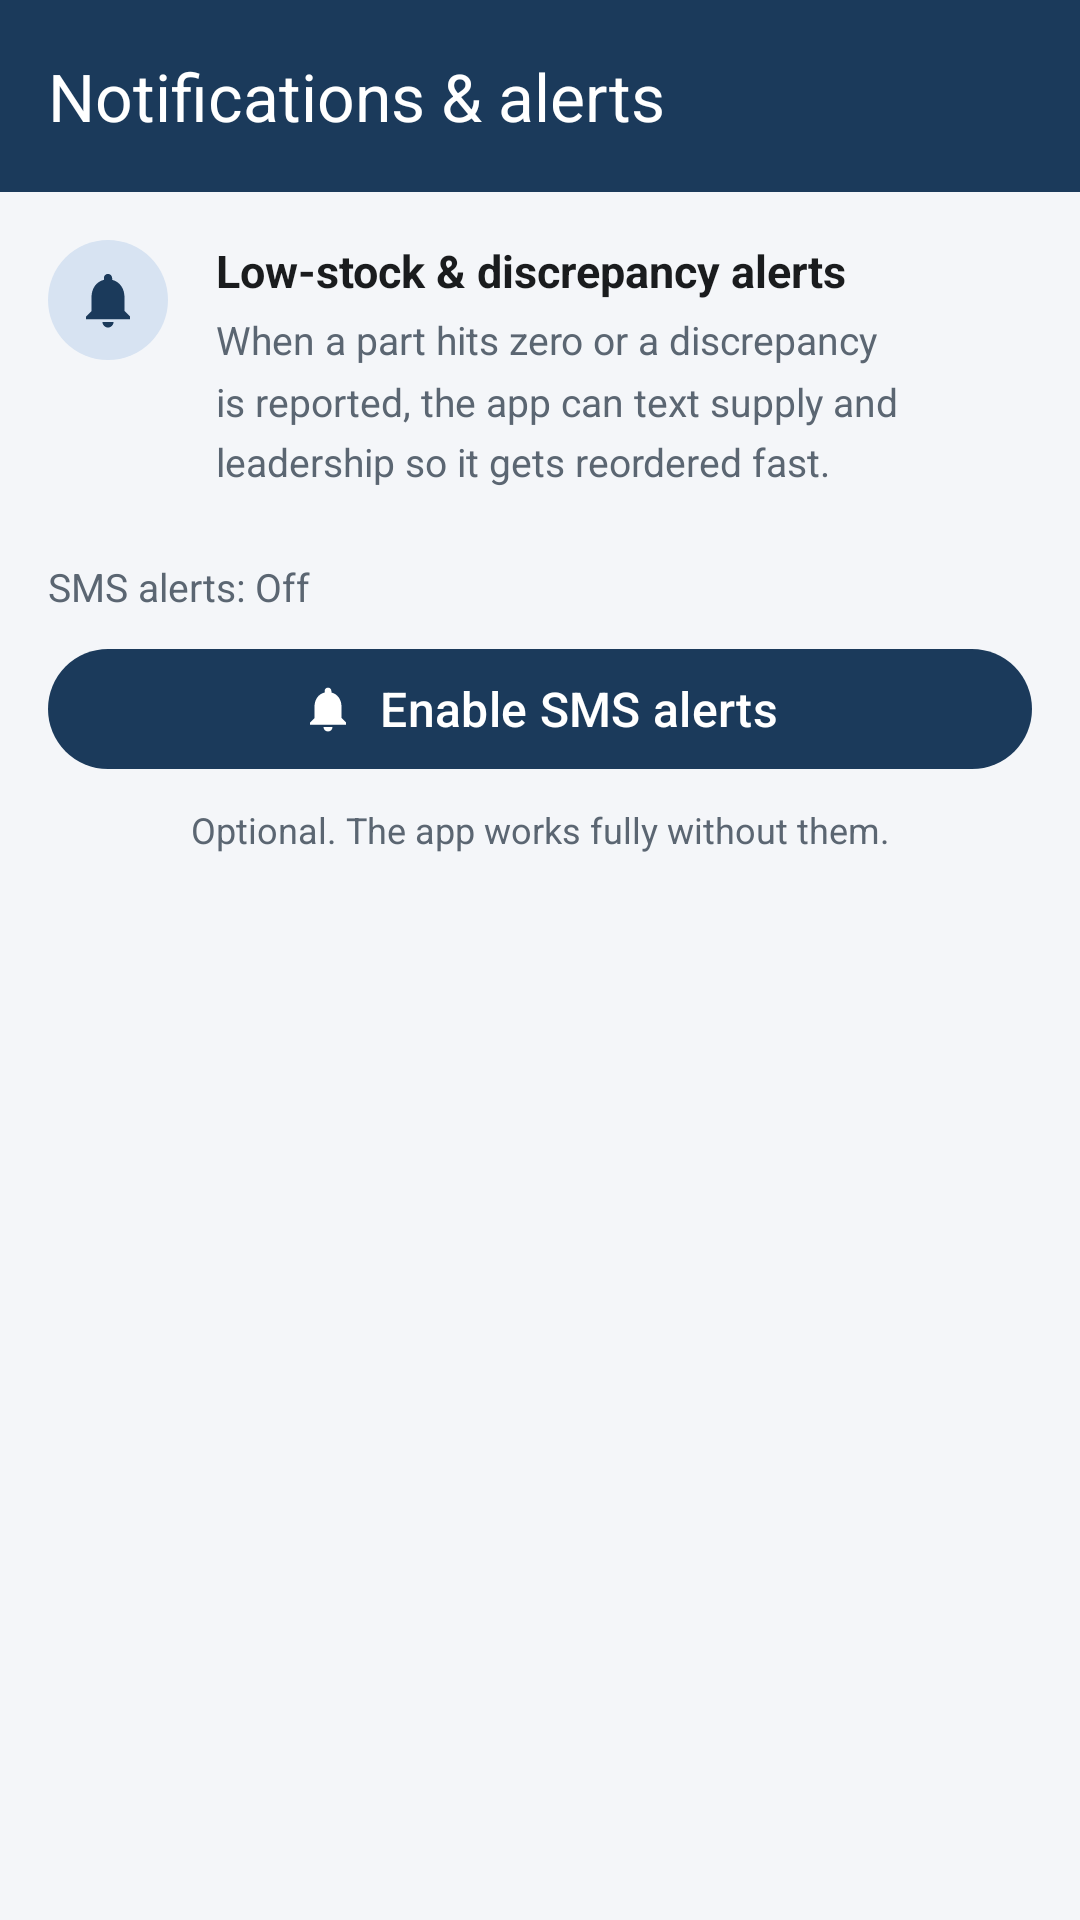

Icons on this 1080 × 1920 Android screen, each with the point to tap as (x=x, y=y):
bell: (x=108, y=300)
